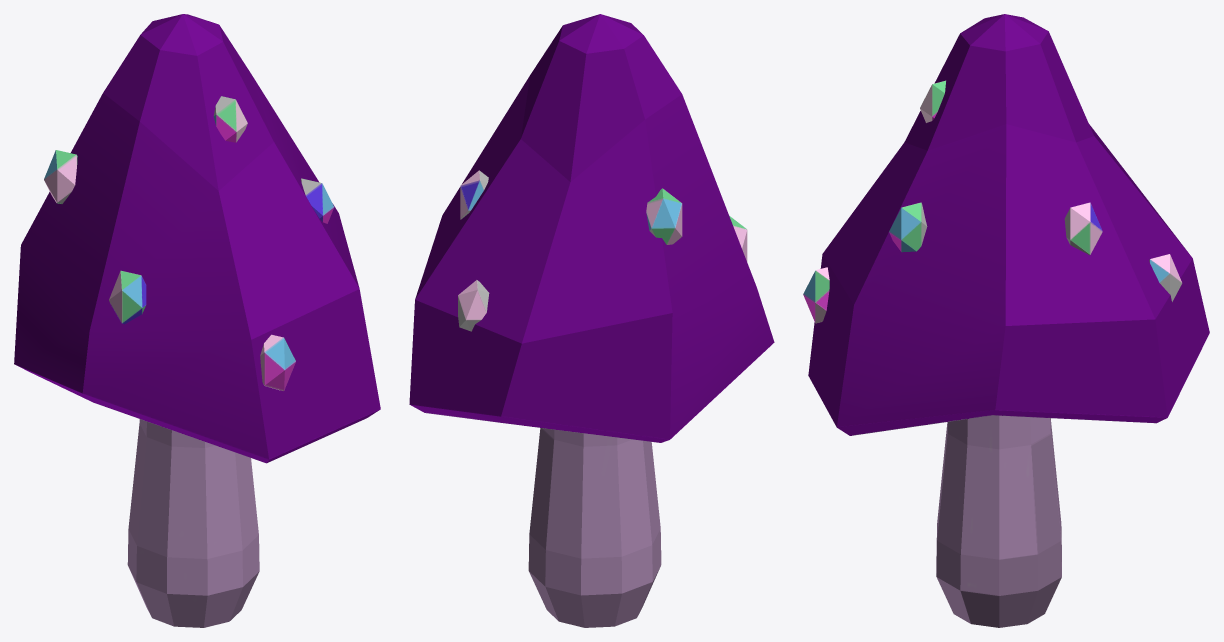
File: purplemushroom3.fbx
The picture shows the model from 3 angles, left to right: view 1: azimuth 30°, elevation 25°; view 2: azimuth 150°, elevation 25°; view 3: azimuth 270°, elevation 25°; orthographic projection.
Parts seen in each view (by area): view 1: puplemushroom3; view 2: puplemushroom3; view 3: puplemushroom3.
Boxes of the visible parts, bbox=[...] form: puplemushroom3: bbox=[14, 14, 380, 627]; puplemushroom3: bbox=[409, 14, 774, 627]; puplemushroom3: bbox=[803, 14, 1209, 627].
Bounding box in the file's own units: 0.2127 × 0.4033 × 0.2518.
1 material, 1 textured.
